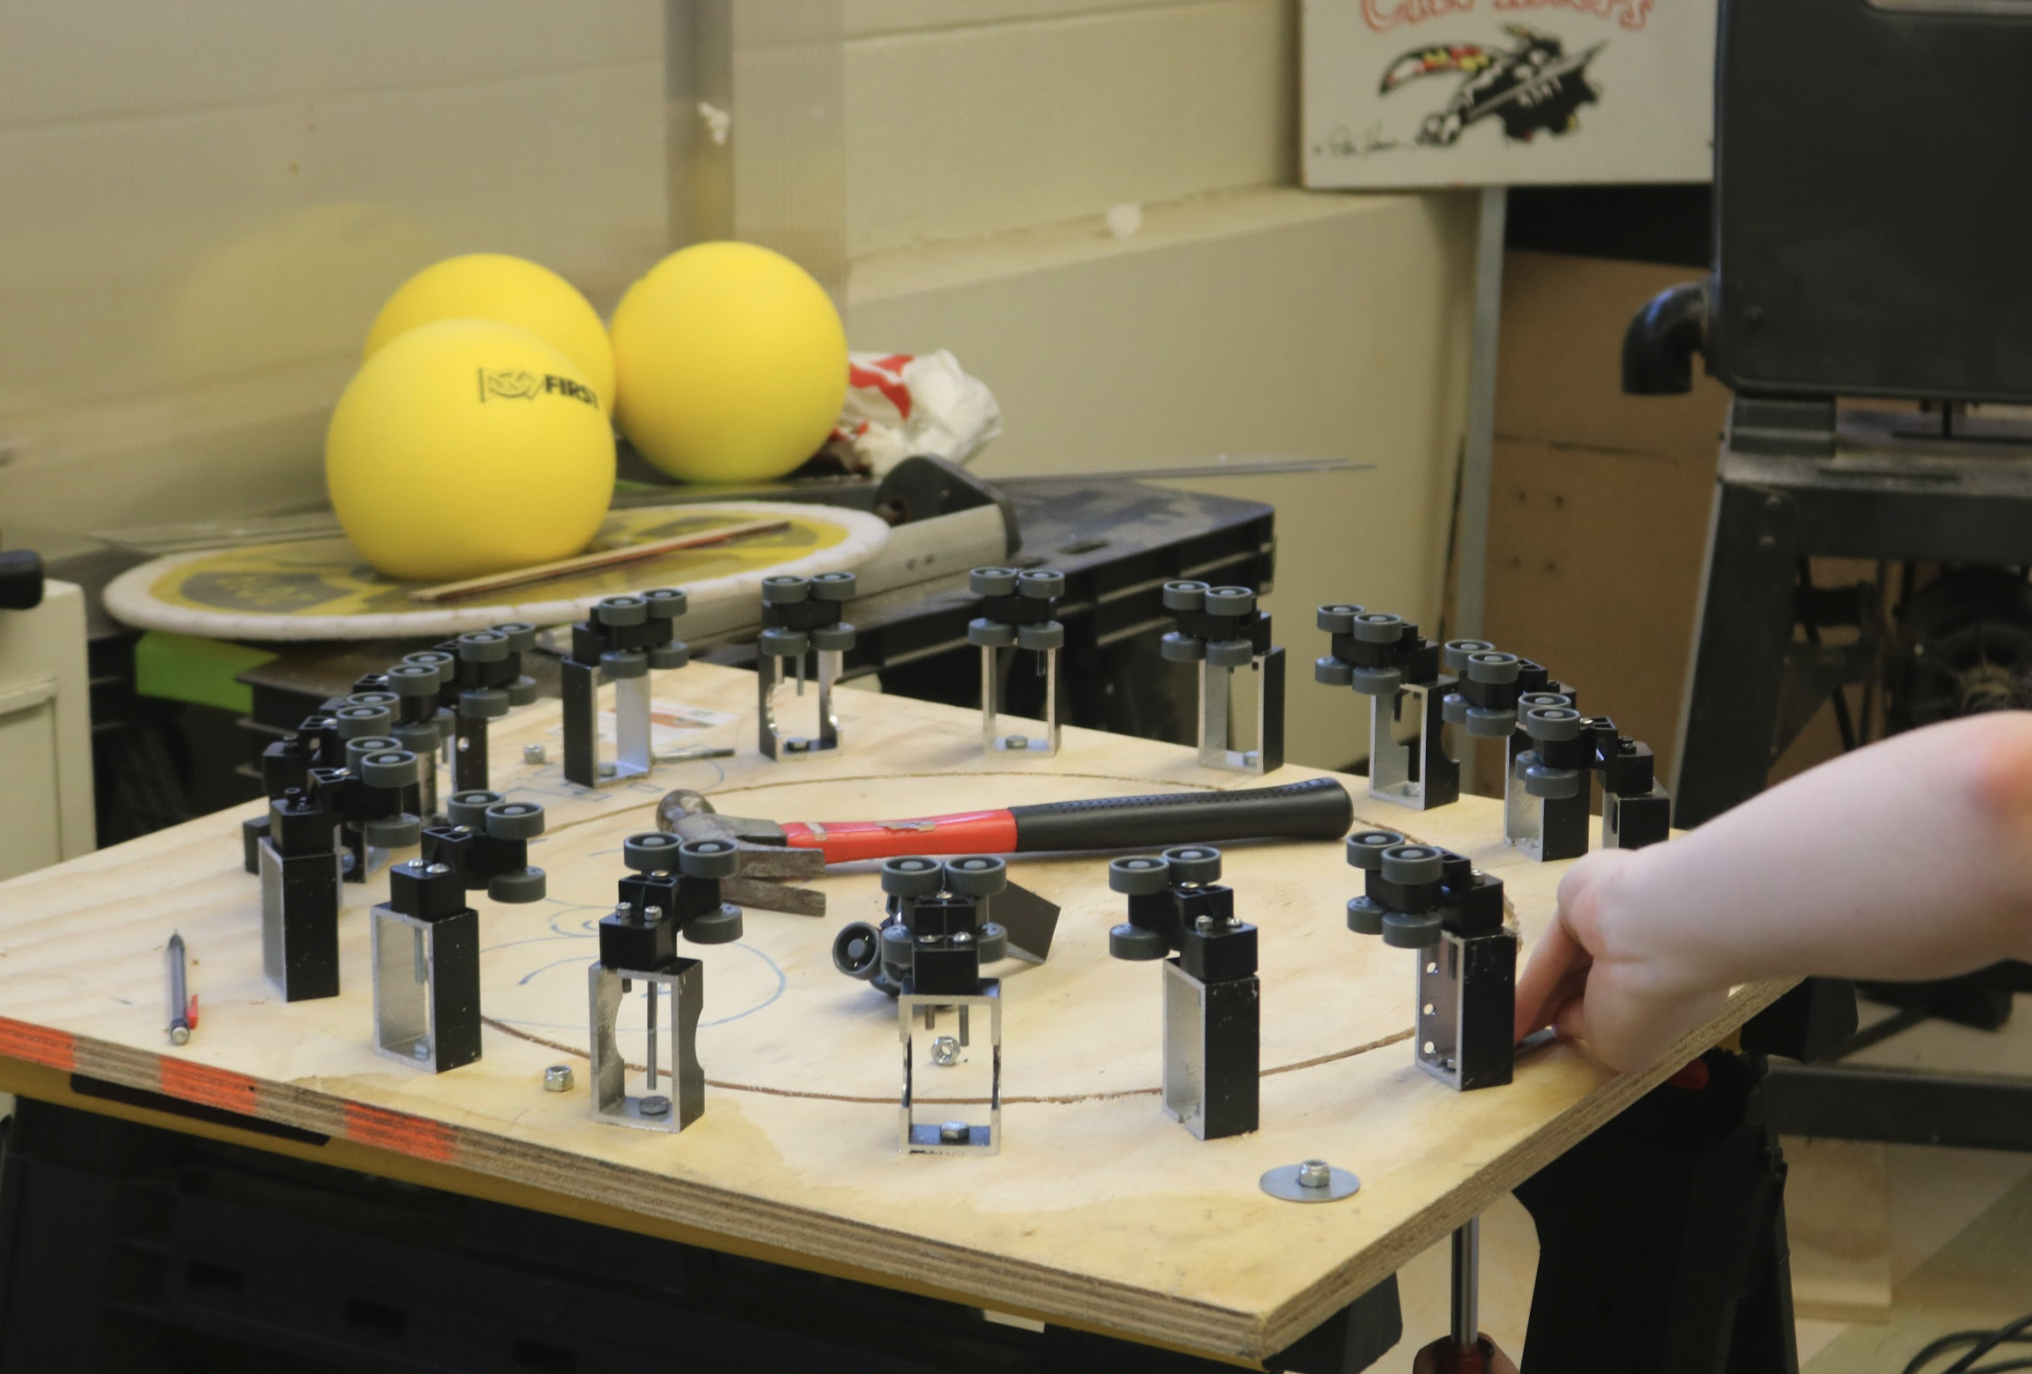powercell: (288, 322, 626, 577), (618, 255, 848, 475)
